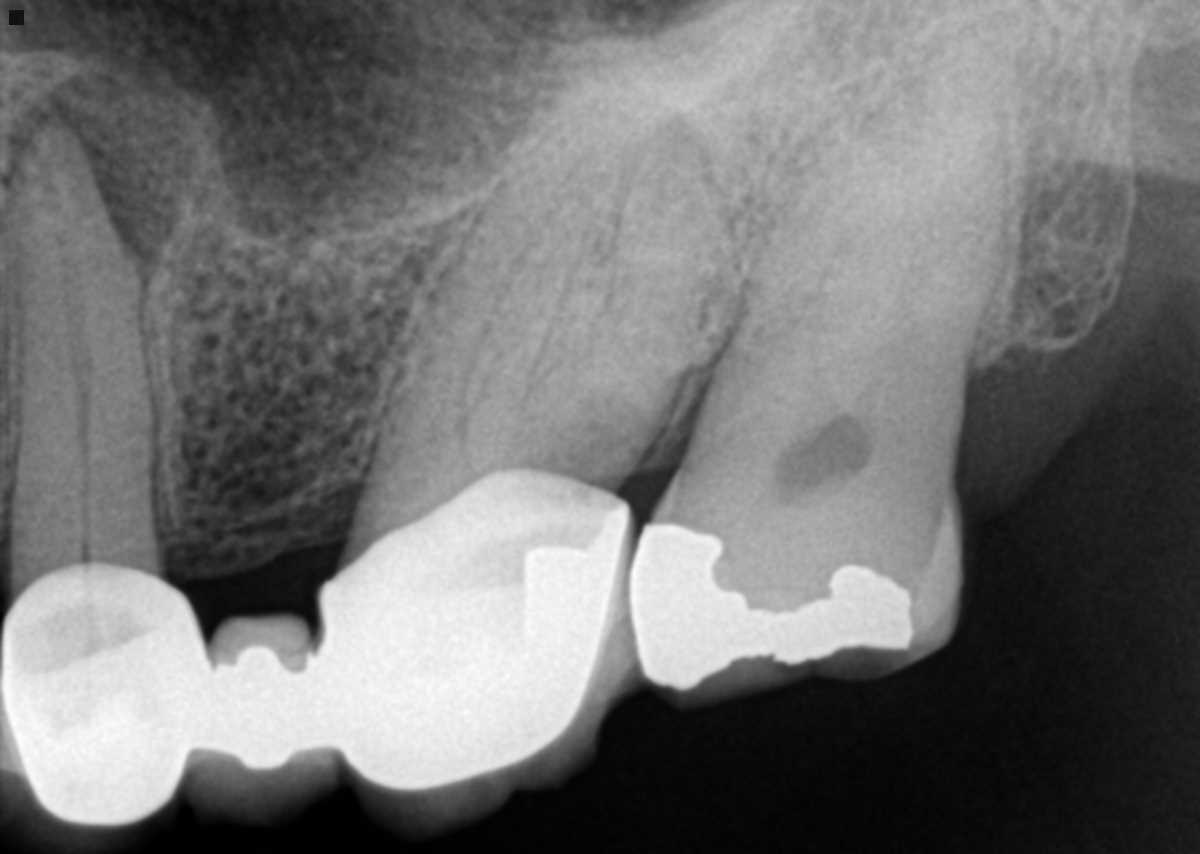Apical Lesion: (4, 63, 202, 255), (616, 111, 719, 181)
Distal Root: (532, 145, 734, 462)
Main Canal: (35, 137, 94, 524)
Main Root: (694, 48, 1007, 435), (6, 118, 155, 525)
Mesial Canal: (452, 188, 577, 423)
Mesial Root: (377, 120, 625, 457)
decay: (539, 391, 655, 485)
